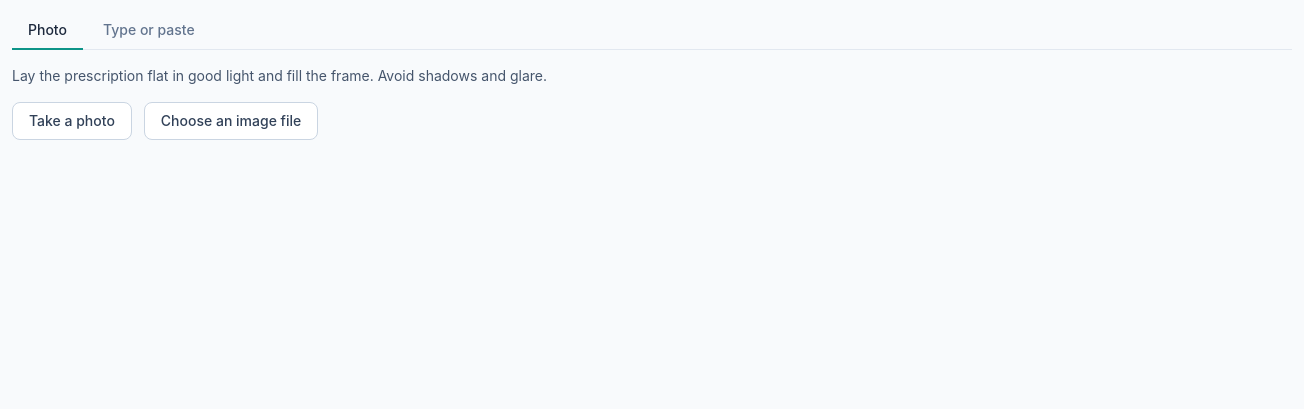
Scenario: ScanUploader - typed text › shows the server error when reading fails
This screenshot has width=1304, height=409.
Click the tab "Type or paste".
click(149, 31)  # box [87,12,211,50]
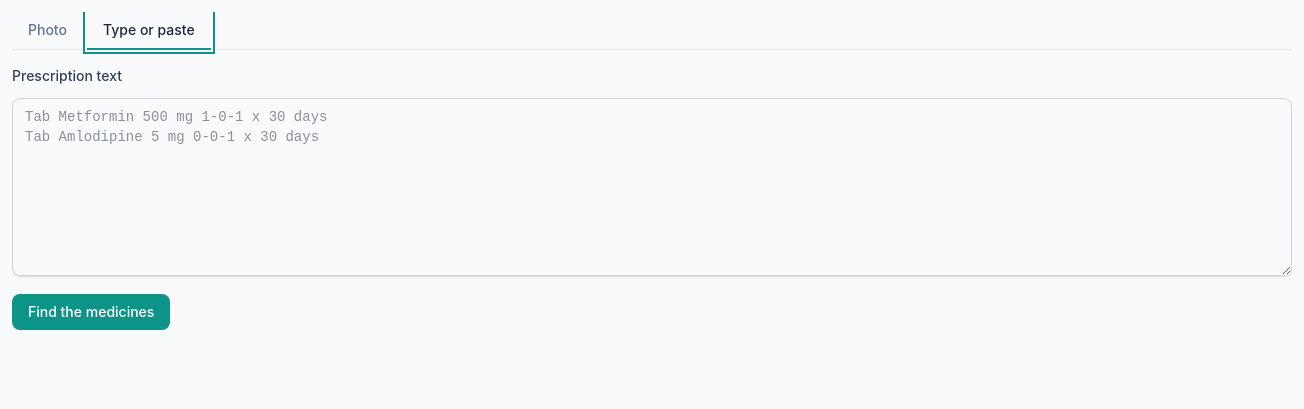
Type "x" into the text box labelled "Prescription text".
click(652, 187); type("x")  # box [12,98,1292,276]
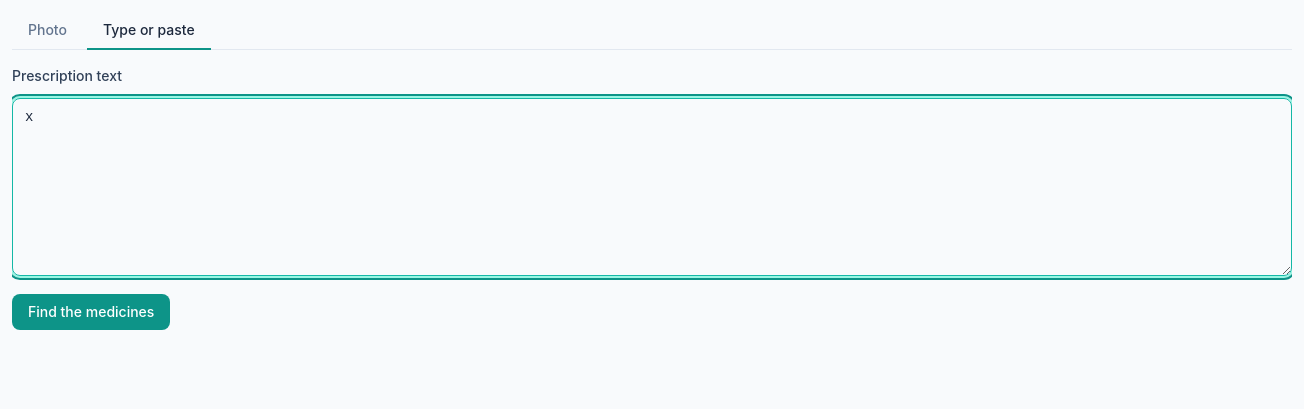
Click the button "Find the medicines".
click(91, 312)  # box [12,294,170,330]
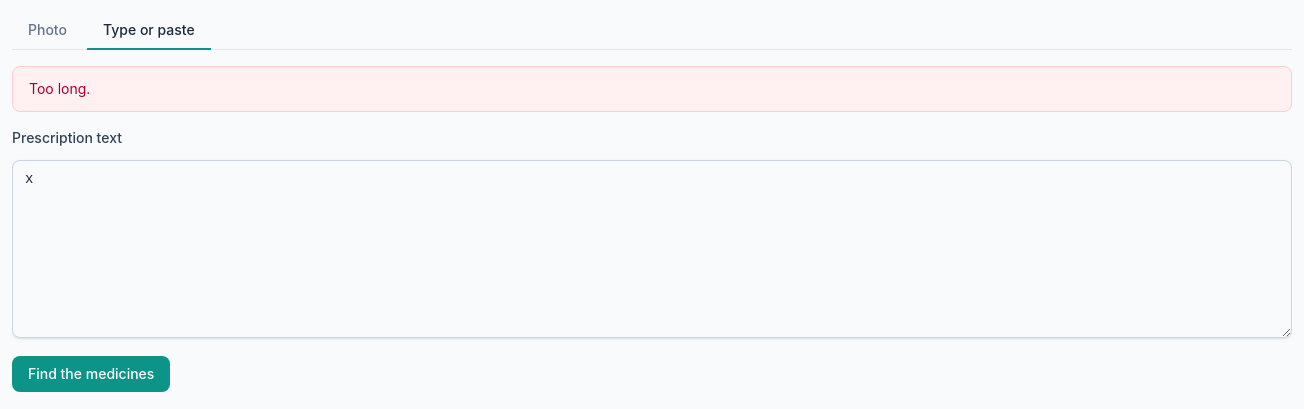
Check: the message reads "Too long.", box [29,80,90,97]
